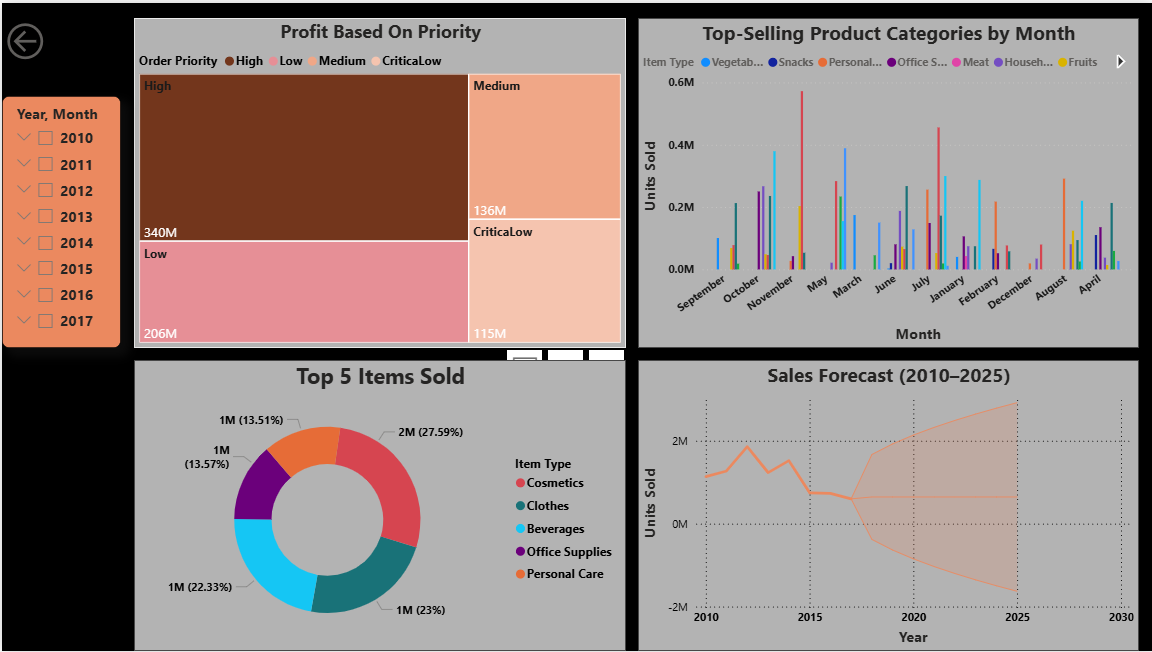

What the dashboard file says about the page in this screenshot:
{"tool":"powerbi","page":{"name":"Page 2","canvas":[1280,720],"ordinal":1},"visuals":[{"type":"treemap","title":"Profit Based On Priority","fields":{"Group":["Amazon_final_data.Order Priority"],"Values":["Sum(Amazon_final_data.profit)"]},"box":[146.7,16.7,546.7,366.7],"z":1000},{"type":"clusteredColumnChart","title":"Top-Selling Product Categories by Month","fields":{"Series":["Amazon_final_data.Item Type"],"Y":["Sum(Amazon_final_data.Units Sold)"],"Category":["Amazon_final_data.Month"]},"box":[706.7,16.7,556.7,366.7],"z":2000},{"type":"donutChart","title":"Top 5 Items Sold","fields":{"Category":["Amazon_final_data.Item Type"],"Y":["Sum(Amazon_final_data.Units Sold)"]},"box":[146.7,396.7,546.7,323.3],"z":3000},{"type":"lineChart","title":"Sales Forecast (2010–2025)","fields":{"Y":["Sum(Amazon_final_data.Units Sold)"],"Category":["Amazon_final_data.Year"]},"box":[706.7,396.7,556.7,323.3],"z":4000},{"type":"slicer","fields":{"Values":["Amazon_final_data.Year","Amazon_final_data.Month"]},"box":[0,103.3,131.7,280],"z":5000},{"type":"actionButton","box":[0,16.7,100,51.7],"z":5501}]}

Visuals, with their boxes in screenshot pixels (x1, y1, x2, y2), scaled from the page's 1280x720 canvas onto the 1152x652 screenshot:
"Profit Based On Priority" treemap: select_region(132, 15, 624, 347)
"Top-Selling Product Categories by Month" clusteredColumnChart: select_region(636, 15, 1137, 347)
"Top 5 Items Sold" donutChart: select_region(132, 359, 624, 651)
"Sales Forecast (2010–2025)" lineChart: select_region(636, 359, 1137, 651)
slicer - Amazon_final_data.Year x Amazon_final_data.Month: select_region(0, 94, 119, 347)
actionButton: select_region(0, 15, 90, 62)
